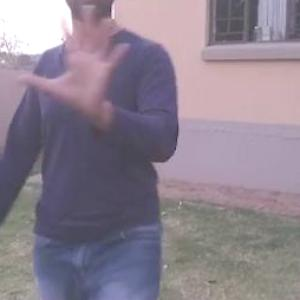follow_hand: (14, 0, 137, 115)
